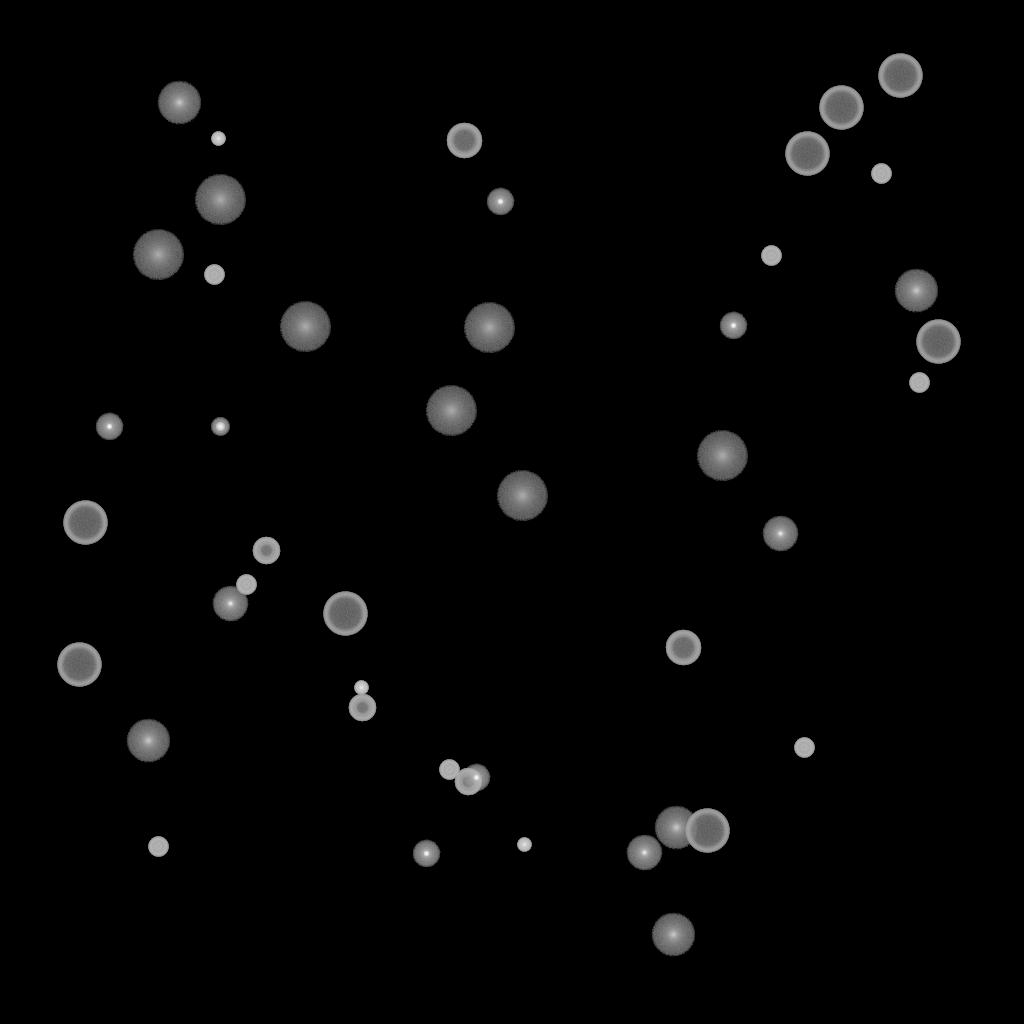depth:-10: (95, 413, 123, 441), (462, 764, 490, 792), (719, 312, 747, 340), (486, 188, 514, 216), (412, 840, 440, 868)
depth:-20: (211, 418, 229, 436)
depth:-30: (211, 132, 225, 146), (354, 681, 368, 695), (517, 838, 531, 852)
depth:-40: (909, 373, 929, 393), (204, 265, 224, 285), (236, 575, 256, 595), (794, 738, 814, 758), (761, 246, 781, 266), (148, 837, 168, 857), (871, 164, 891, 184), (439, 760, 459, 780)
depth:-50: (348, 694, 376, 722), (252, 537, 280, 565), (454, 768, 482, 796)
depth:-60: (446, 123, 482, 159), (665, 630, 701, 666)
depth:-70: (819, 86, 863, 130), (878, 54, 922, 98), (323, 592, 367, 636), (685, 809, 729, 853), (63, 501, 107, 545), (785, 132, 829, 176), (916, 320, 960, 364), (57, 643, 101, 687)
depth:0: (762, 516, 798, 552), (212, 586, 248, 622), (626, 835, 662, 871)
depth:10: (126, 719, 170, 763), (654, 806, 698, 850), (651, 913, 695, 957), (157, 81, 201, 125), (894, 269, 938, 313)
depth:20: (132, 230, 184, 280), (696, 431, 748, 481), (463, 303, 515, 353), (194, 175, 246, 225), (425, 386, 477, 436), (496, 471, 548, 521), (279, 302, 331, 352)
